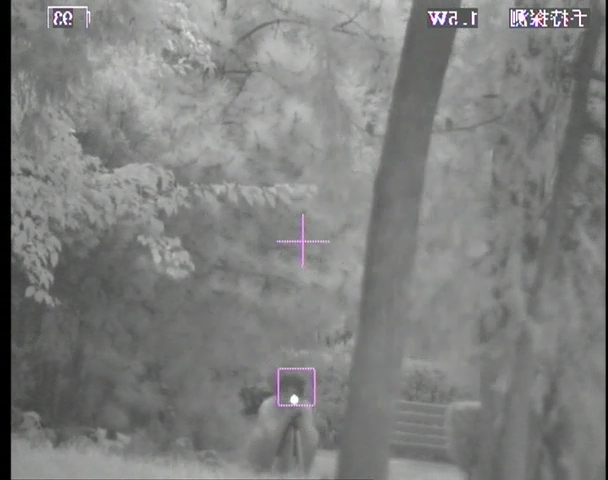my: (289, 393, 299, 405)
